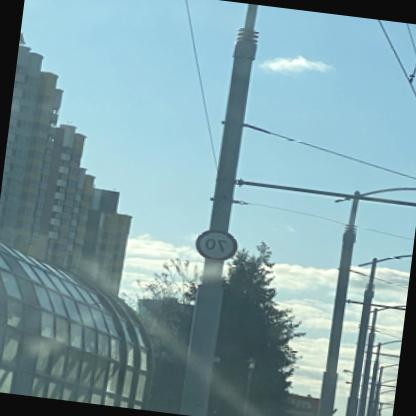speedlimit: (195, 226, 241, 262)
